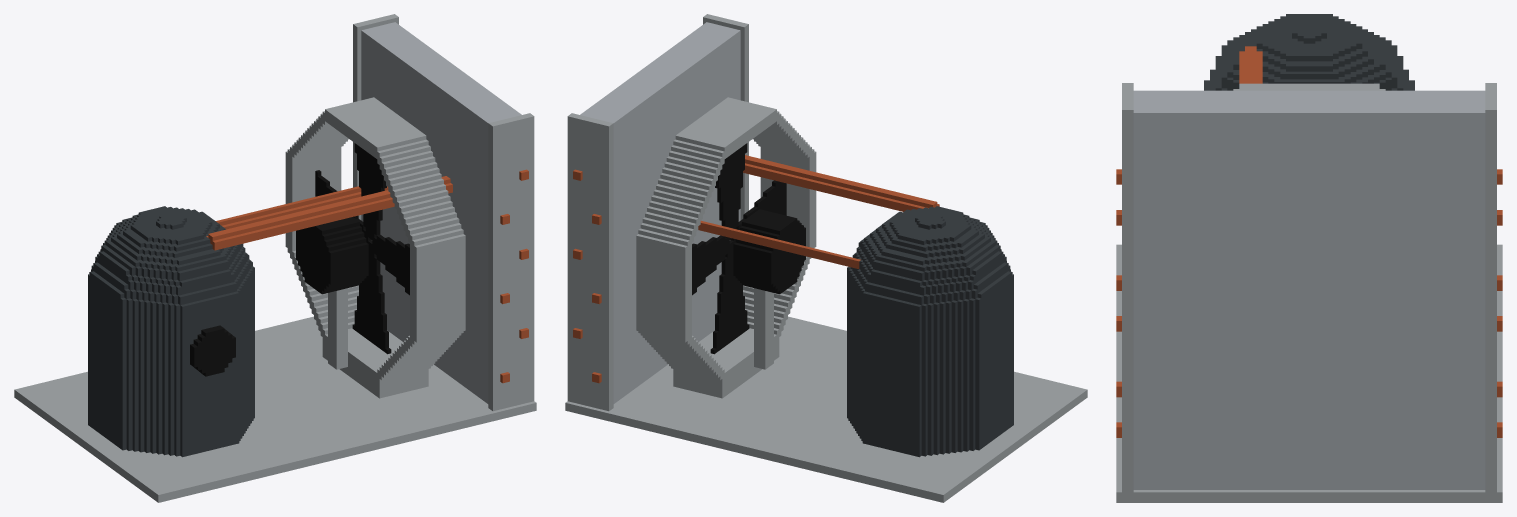
Rendered from condensor_coil.glb.
The picture shows the model from 3 angles, left to right: view 1: azimuth 30°, elevation 25°; view 2: azimuth 150°, elevation 25°; view 3: azimuth 270°, elevation 25°; orthographic projection. The views are drawn at different scales.
Visible parts, largest first — view 1: condensor_coil:compound; view 2: condensor_coil:compound; view 3: condensor_coil:compound.
Part boxes in pixels (left/top/right/bottom): condensor_coil:compound: left=14, top=14, right=536, bottom=502; condensor_coil:compound: left=565, top=14, right=1087, bottom=502; condensor_coil:compound: left=1116, top=14, right=1502, bottom=502.
Size of the model in its own units: 0.4 by 0.296 by 0.264.
